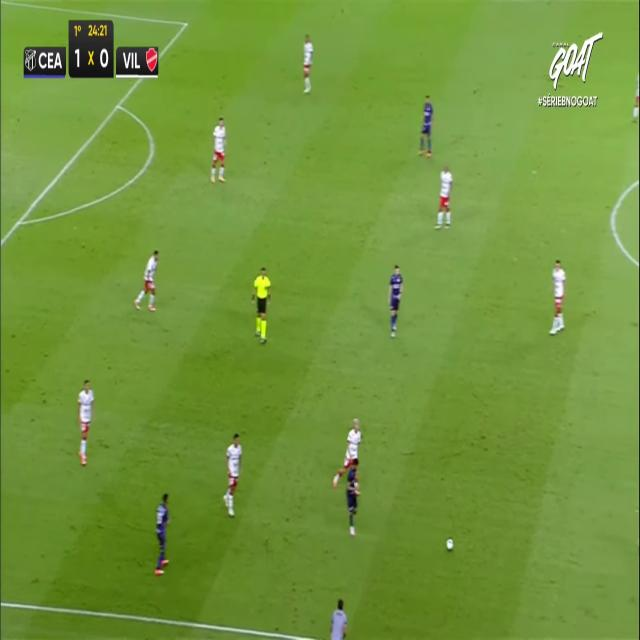ball: (446, 537, 453, 550)
player: (333, 417, 363, 490), (223, 432, 242, 515), (134, 249, 158, 310), (77, 378, 94, 463), (345, 455, 361, 534), (155, 492, 170, 573), (550, 258, 566, 332), (388, 263, 403, 337), (435, 163, 452, 228), (211, 115, 227, 182), (418, 94, 434, 156), (329, 598, 348, 640), (302, 33, 313, 93), (632, 69, 640, 121)
referee: (252, 265, 271, 342)
